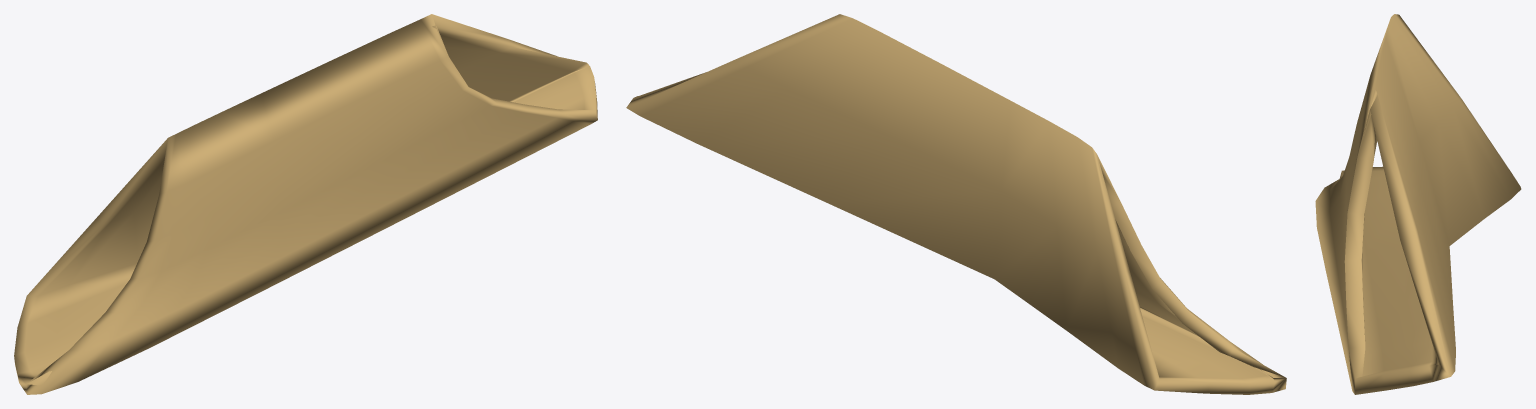
3 renders of one model, left to right at view 1: azimuth 30°, elevation 25°; view 2: azimuth 150°, elevation 25°; view 3: azimuth 270°, elevation 25°, orthographic. The views are drawn at different scales.
Parts seen in each view (by area): view 1: 右侧膝横韧带; view 2: 右侧膝横韧带; view 3: 右侧膝横韧带.
Boxes of the visible parts, left/top/right/bottom form: 右侧膝横韧带: left=14, top=14, right=597, bottom=394; 右侧膝横韧带: left=626, top=14, right=1286, bottom=394; 右侧膝横韧带: left=1315, top=14, right=1521, bottom=394.
Size of the model in its own units: 0.042 by 0.0181 by 0.00901.
